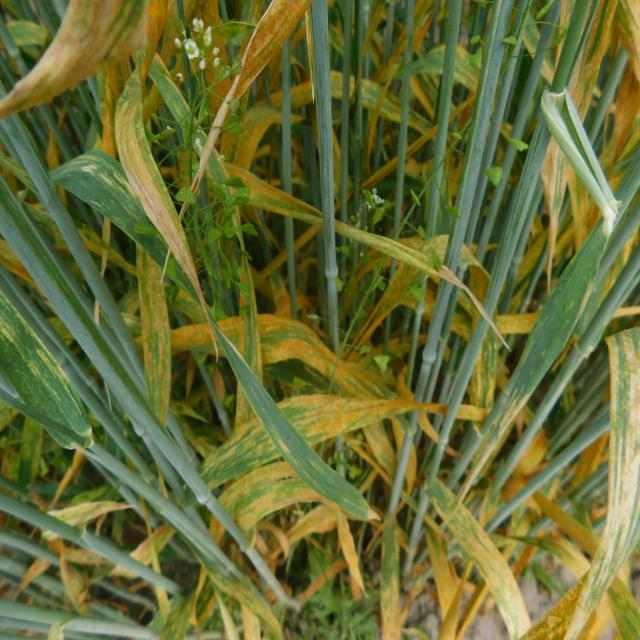wheat-yellowrust: (114, 65, 210, 330), (194, 0, 314, 179), (0, 0, 144, 120), (426, 479, 533, 640), (258, 314, 394, 399), (277, 395, 420, 445), (136, 252, 173, 428), (201, 420, 282, 489), (147, 0, 175, 61)
